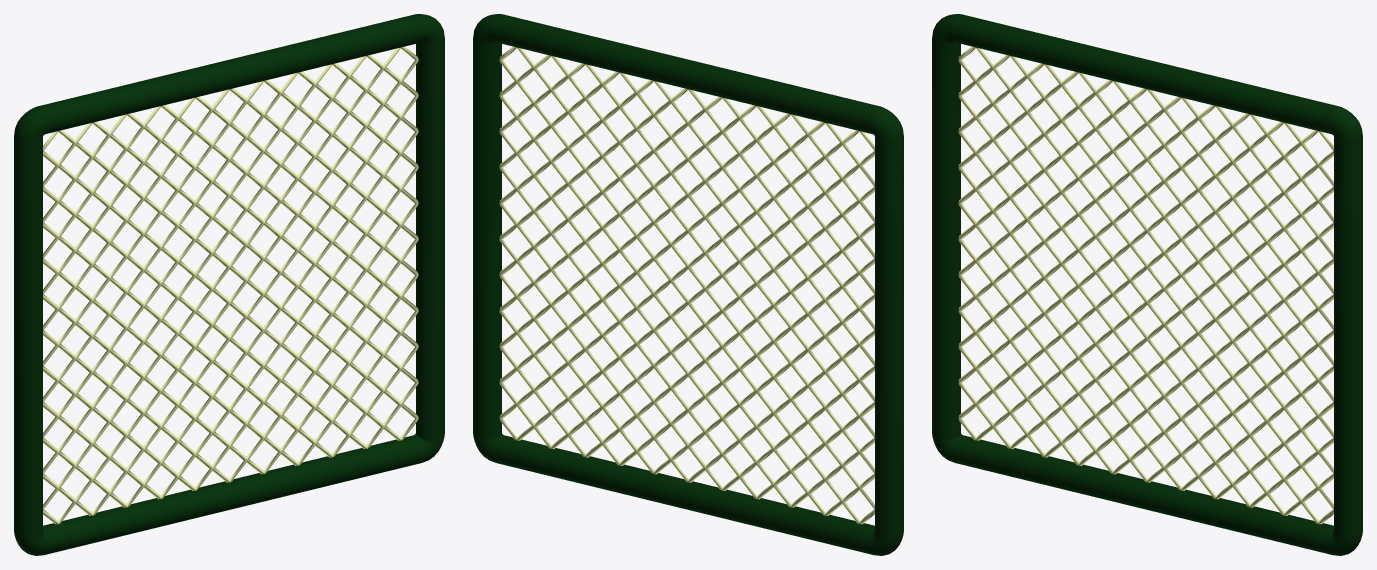
Rendered from fence.fbx.
3 views of the same model, side by side, from view 1: azimuth 30°, elevation 25°; view 2: azimuth 150°, elevation 25°; view 3: azimuth 330°, elevation 25° (orthographic).
Visible parts, largest first — view 1: mesh_net.001, mesh_net; view 2: mesh_net.001, mesh_net; view 3: mesh_net.001, mesh_net.
Part boxes in pixels (box(x1,y1,x2,y2)): mesh_net.001: box(14, 14, 444, 555); mesh_net: box(43, 46, 418, 524); mesh_net.001: box(473, 14, 903, 555); mesh_net: box(499, 46, 874, 524); mesh_net.001: box(932, 14, 1362, 555); mesh_net: box(958, 46, 1333, 524).
Size of the model in its own units: 340 by 340 by 20.
